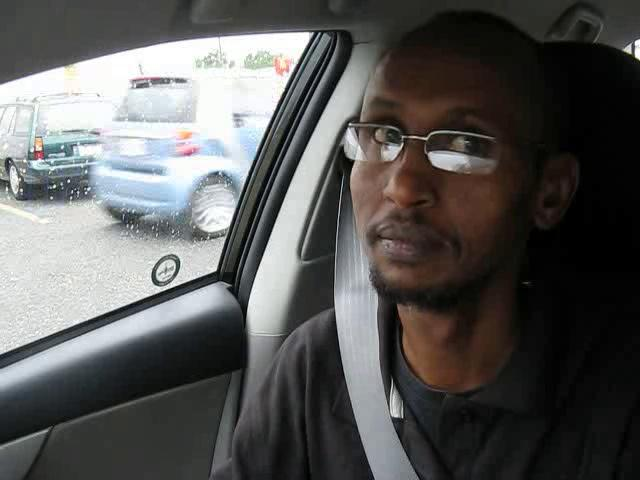no_yawn: (359, 204, 466, 276)
open_eyeL: (350, 112, 416, 162)
open_eyeR: (441, 121, 500, 173)
